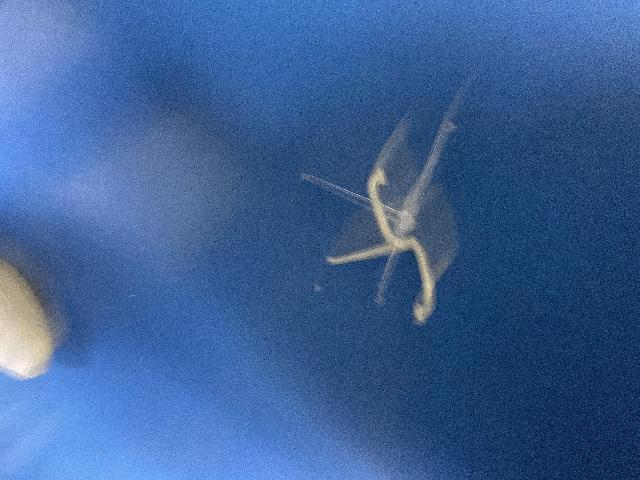Plastik: (295, 116, 476, 305)
